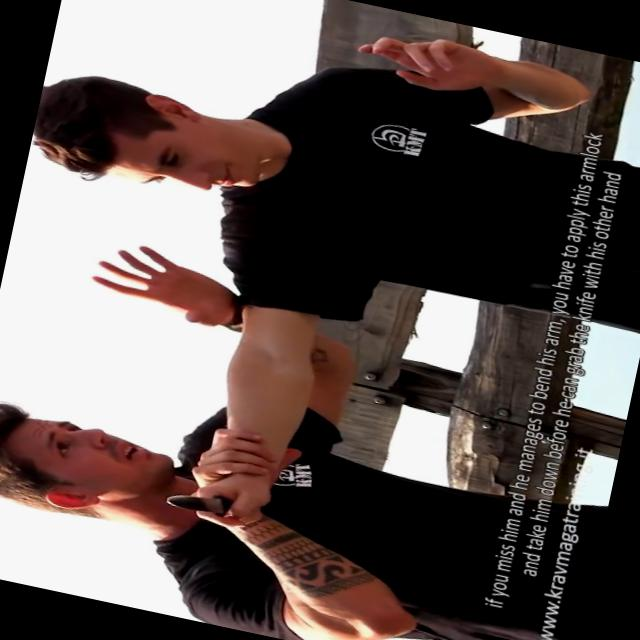knife: (153, 476, 264, 534)
